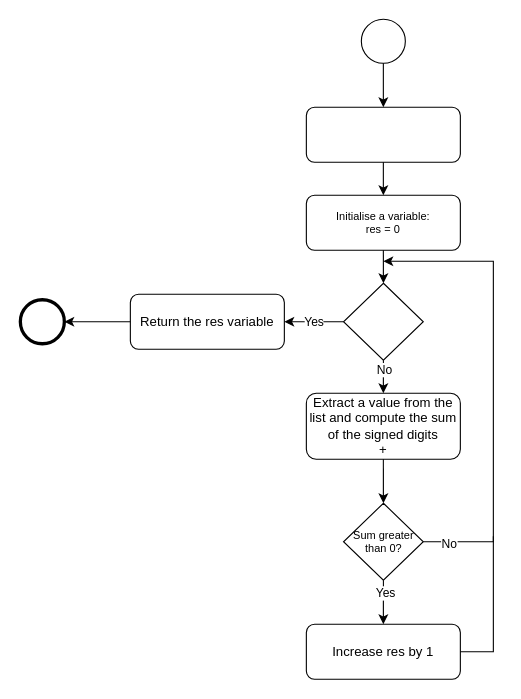
The diagram is 521 pixels wide and 699 high, and some of its shapes have lost their labels. Here are the shapes that lost their labels. From the top down, the centre of each, then its label:
At [382,134]: "Receive a list of integers".
At [382,321]: "Has the list been fully iterated?".
